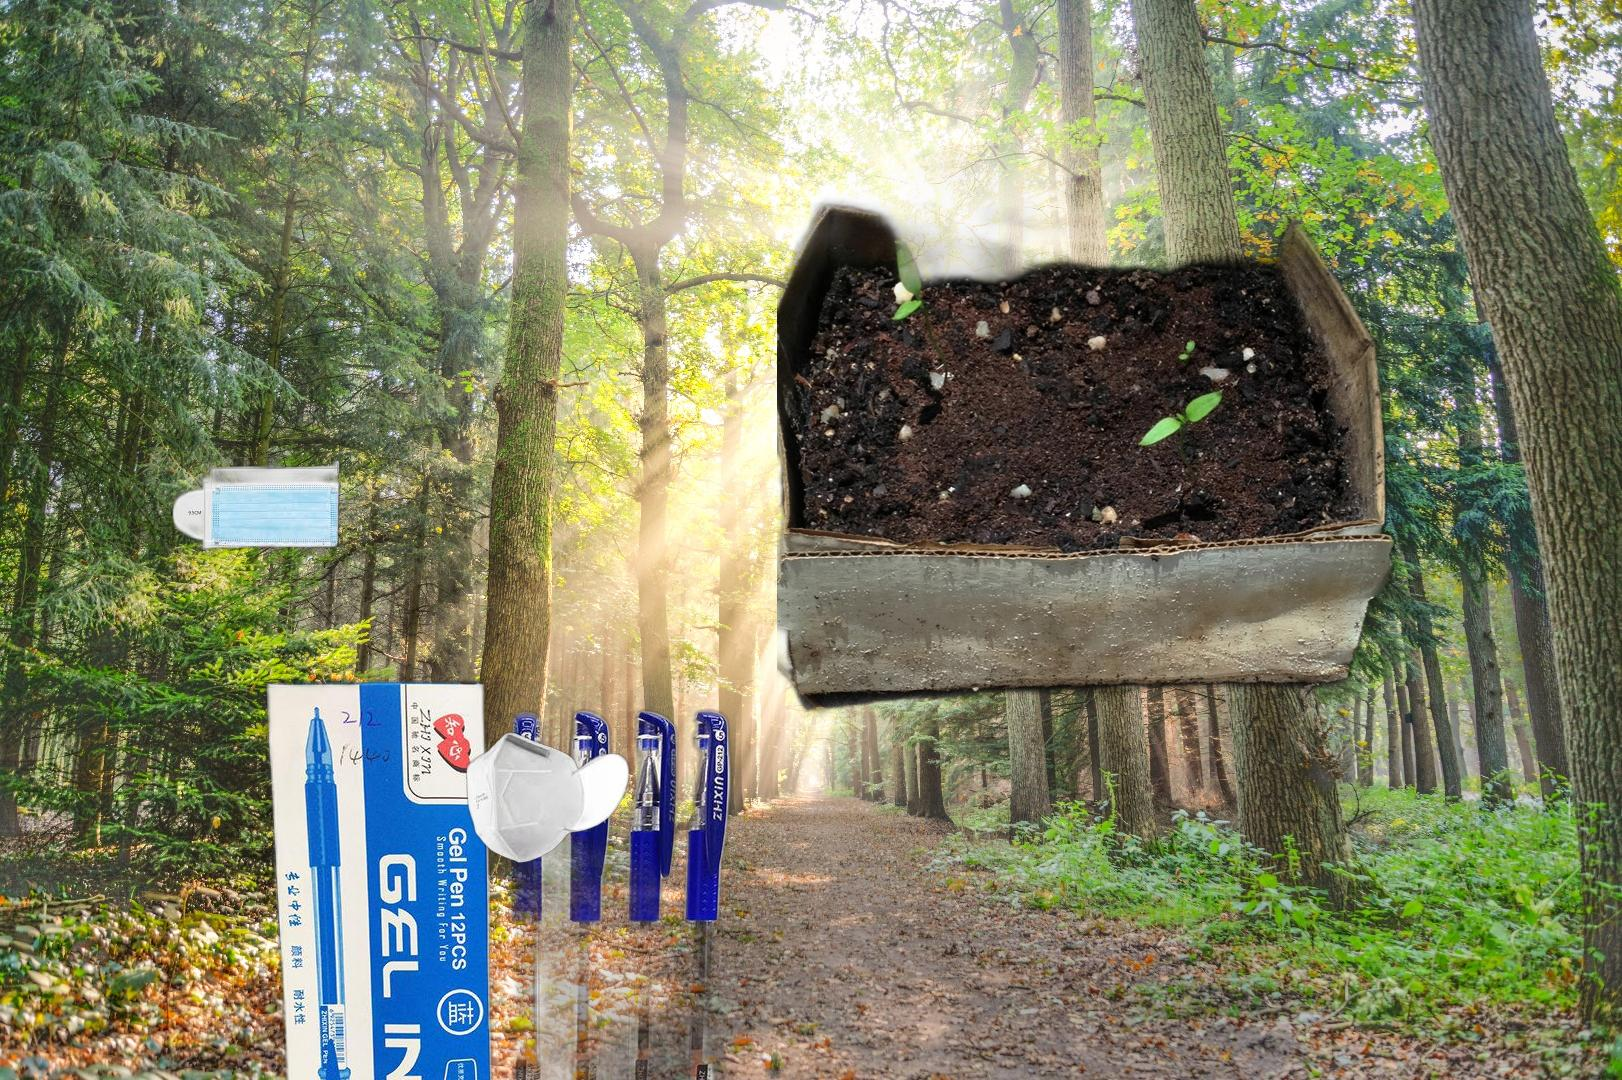penholder: (259, 675, 752, 1080)
trash: (164, 395, 343, 556), (464, 730, 631, 865)
trashbox-cardboard: (777, 95, 1403, 717)
